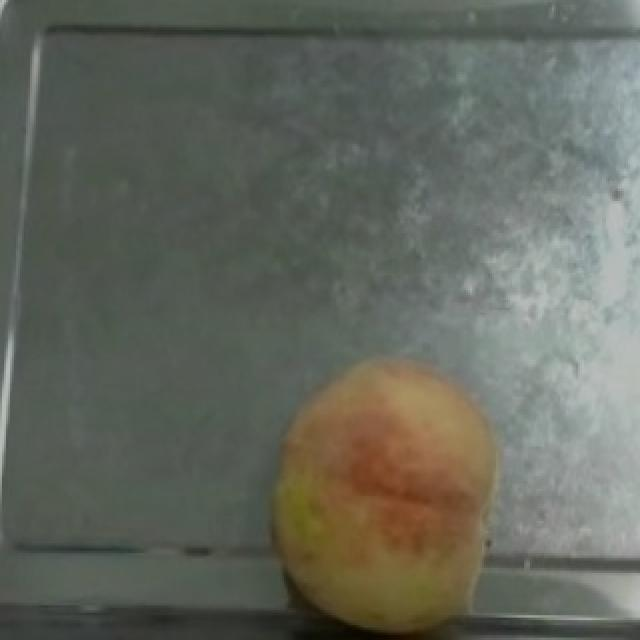Fruit: (256, 340, 514, 640)
